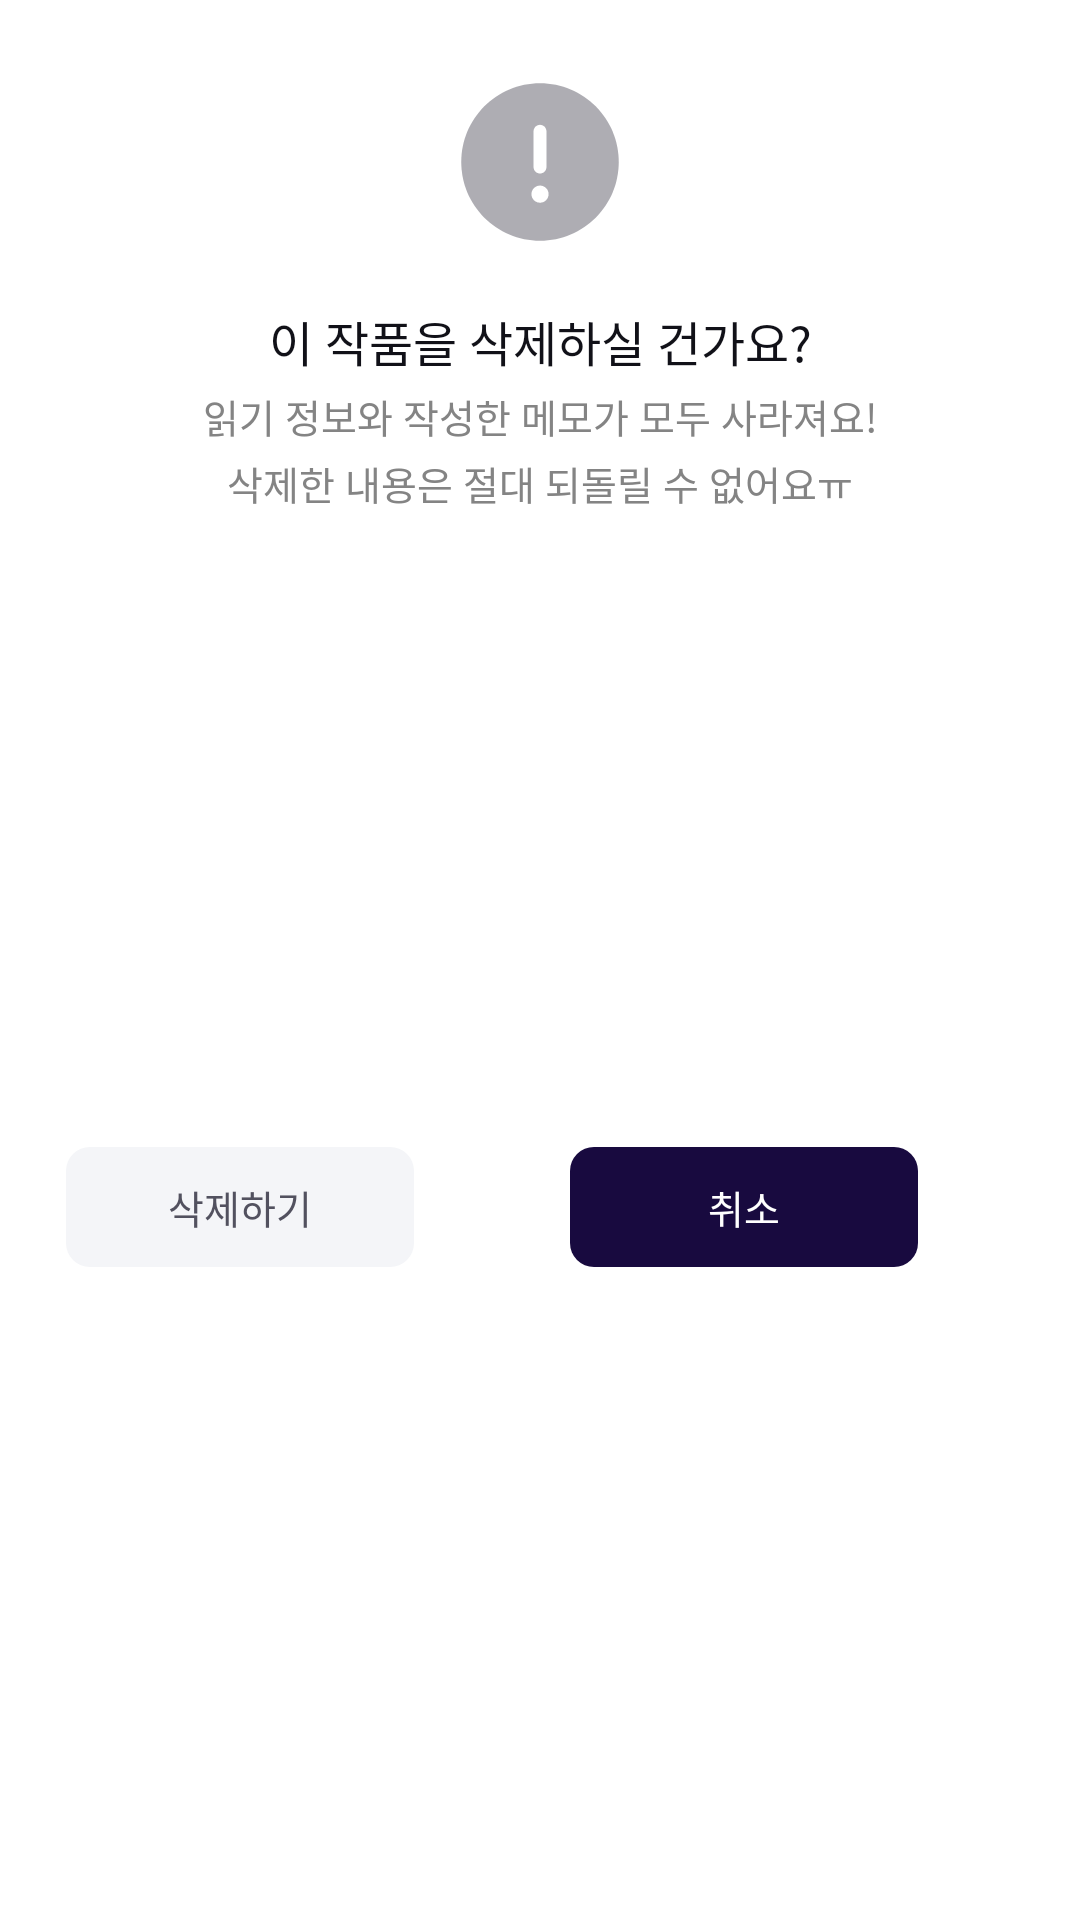

Icons on this 1080x1920 Android screen, each with its box as BBox(x1, y1, x2, y2):
warning circle: BBox(461, 83, 619, 241)
